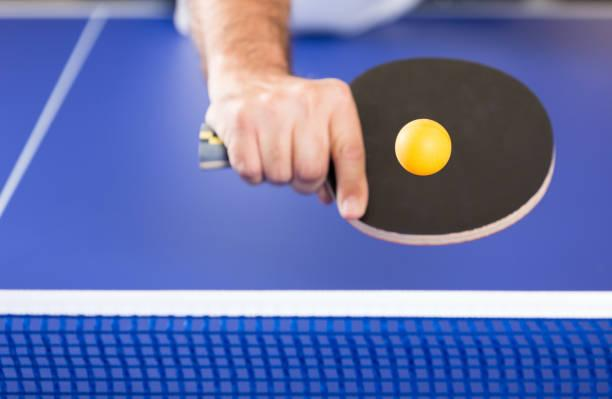ball_pingpong: (392, 117, 455, 179)
